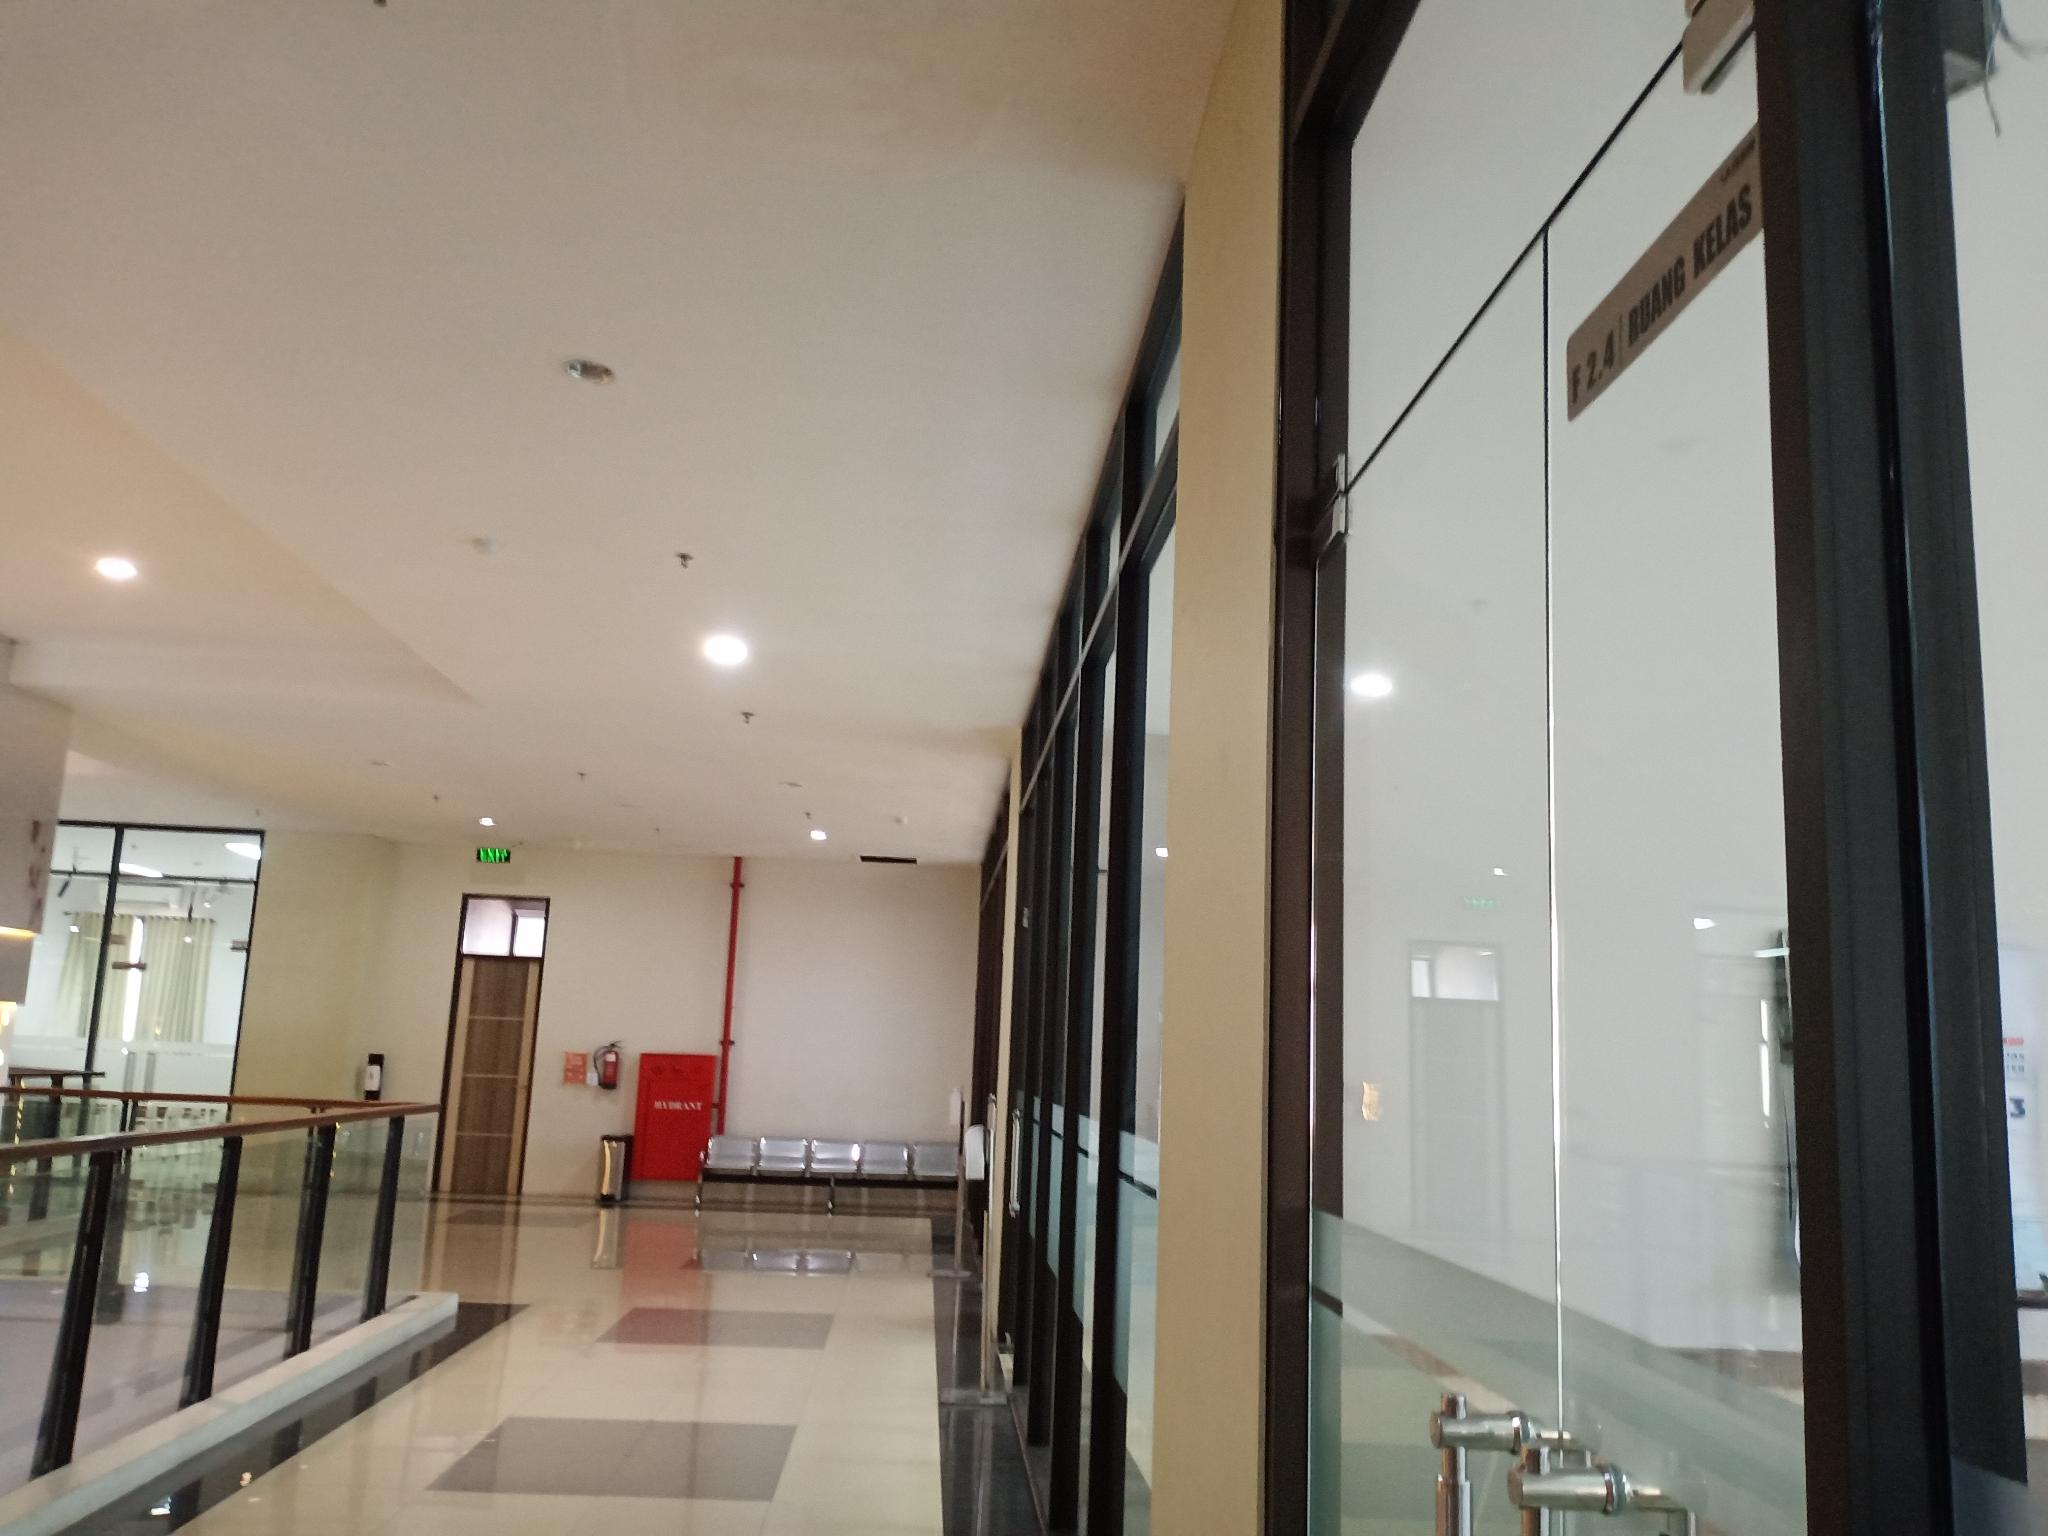plate: (1564, 123, 1761, 421)
